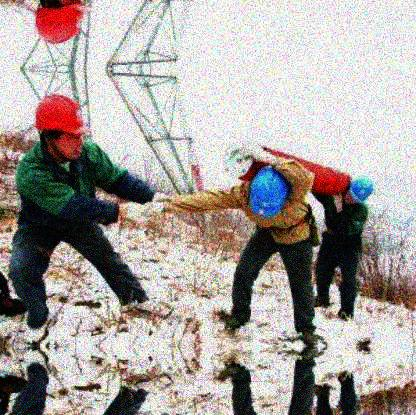helmet: (36, 93, 87, 162), (34, 1, 88, 45), (343, 177, 374, 210)
